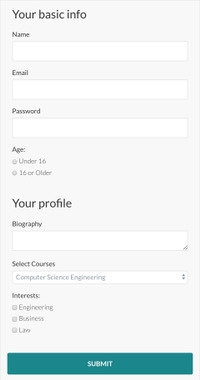_form_: (1, 1, 200, 380)
button: (7, 351, 194, 375)
checkbox: (10, 302, 18, 313), (11, 314, 18, 325), (12, 326, 16, 336)
field: (10, 77, 190, 101), (10, 229, 190, 253), (11, 116, 190, 140), (11, 39, 189, 63)
field_with_label: (8, 220, 193, 256), (9, 29, 191, 65), (9, 107, 194, 142), (8, 69, 192, 102)
radio: (8, 167, 20, 179), (8, 156, 19, 167)
radio_with_label: (8, 301, 58, 314), (6, 166, 52, 180), (6, 154, 48, 168), (8, 312, 47, 326), (8, 325, 34, 339)
